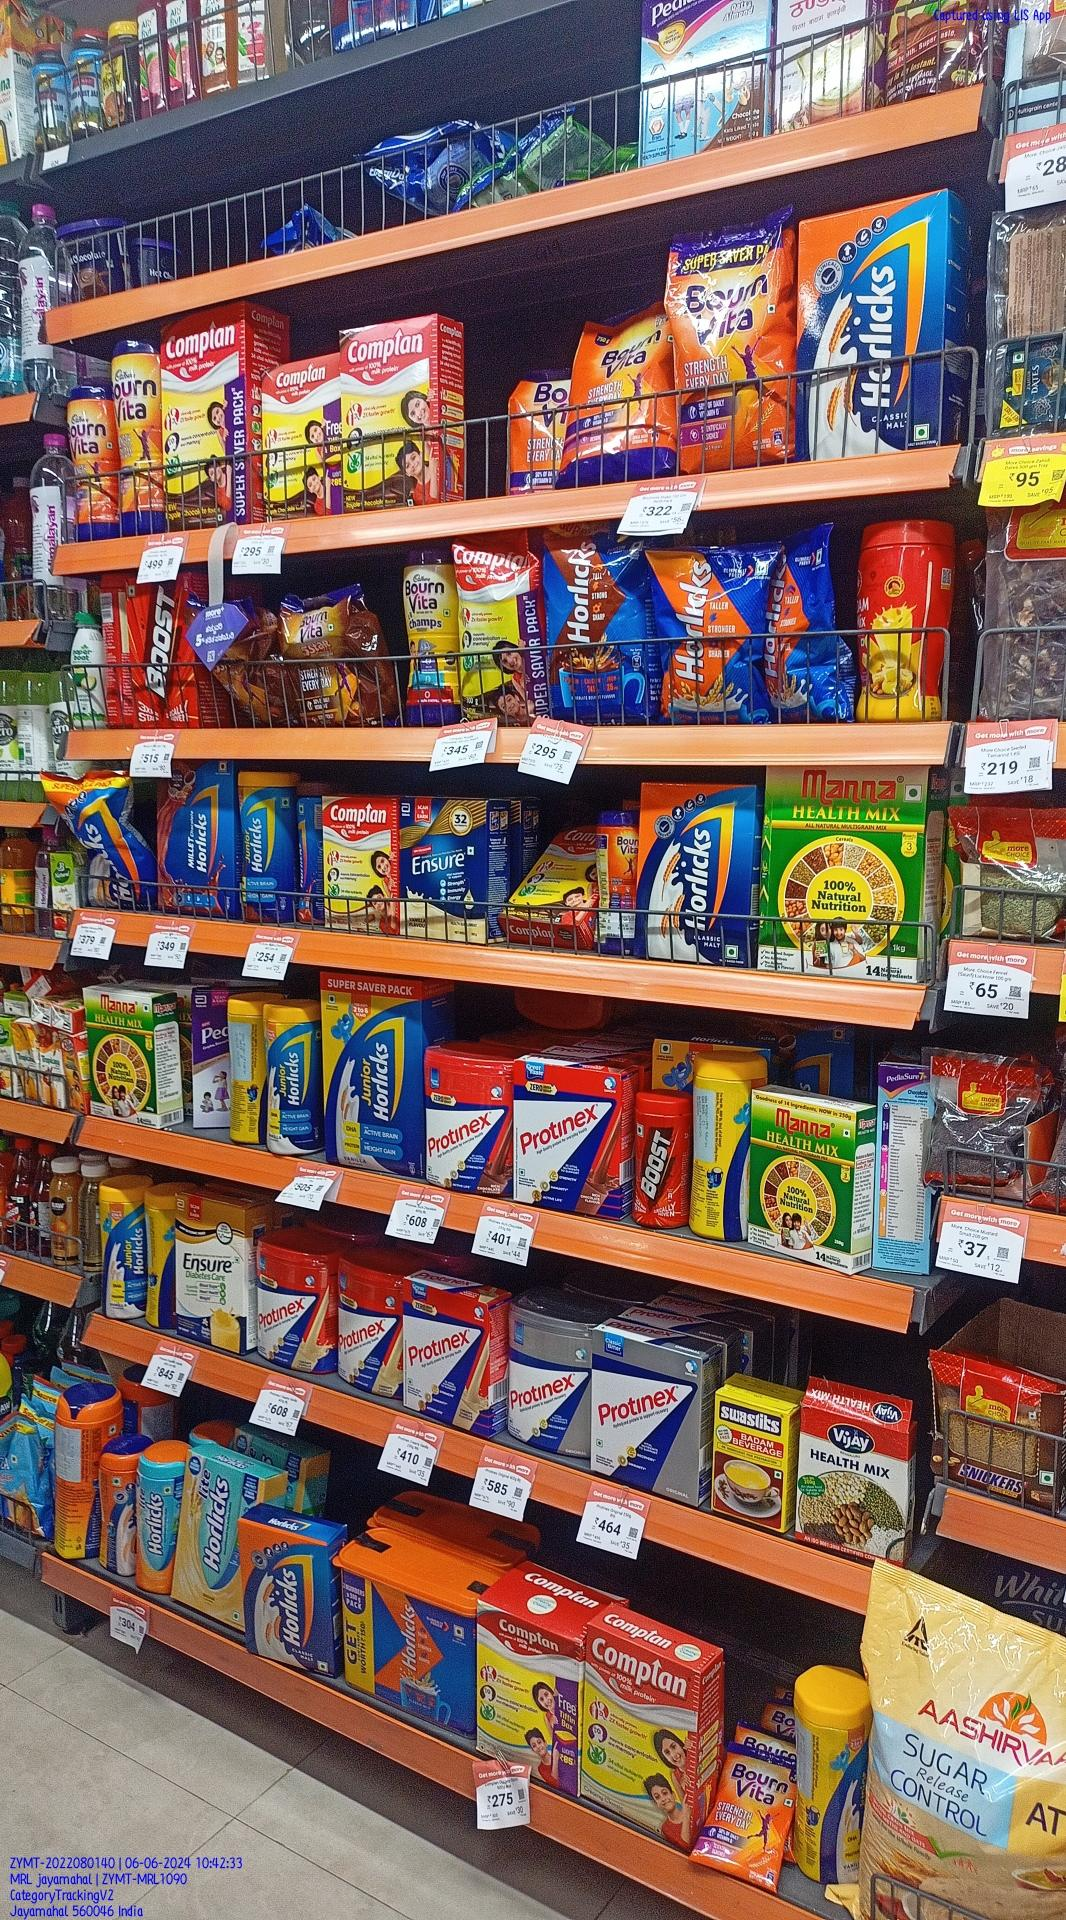HORLICKS_JUNIOR_VANILLA_500_GM_JAR: (263, 1005, 322, 1144)
HORLICKS_LITE_REGULAR_MALT_500_GM_JAR: (130, 1441, 184, 1601)
HORLICK_CLASSIC_MALT_500_G_PACK: (801, 217, 949, 442), (642, 783, 757, 959), (242, 1526, 330, 1661)
HORLICK_MALT_1_KG_CONTAINER: (341, 1551, 477, 1730)
PROTINEX_CHOCOLATE_400_G_JAR: (419, 1058, 507, 1189)
PROTINEX_ORIGINAL_400_G_JAR: (508, 1299, 593, 1457)
PROTINEX_VANILLA_400_G_JAR: (245, 1251, 324, 1367), (337, 1265, 400, 1391)
